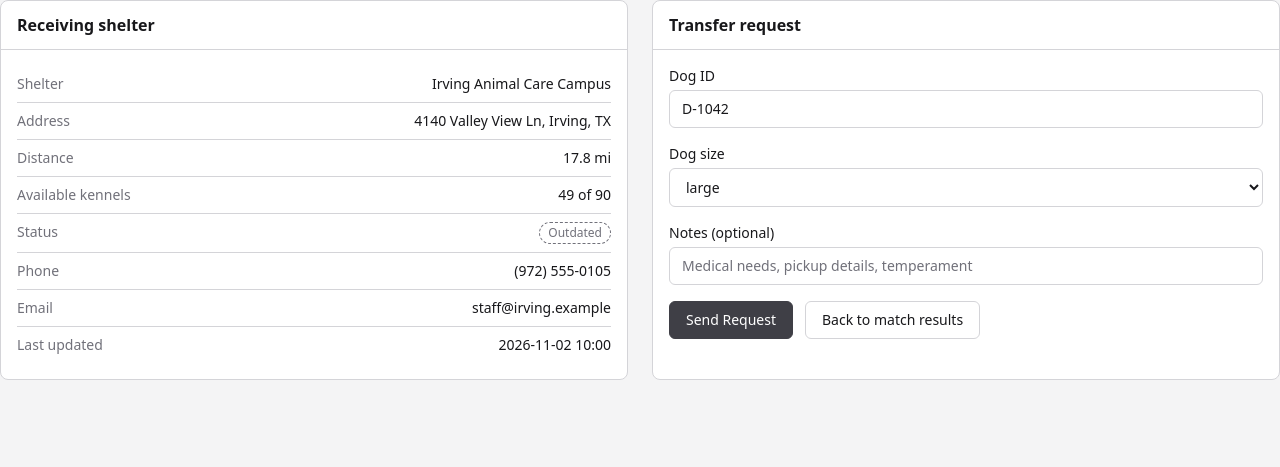
Scenario: UC-7 Request Dog Transfer (screen) › TC-7-06 (screen) a dog that already has an active transfer is refused with the message
The width and height of the screenshot is (1280, 467).
Click the button "Send Request": {"x": 731, "y": 320} [669,301,793,339]
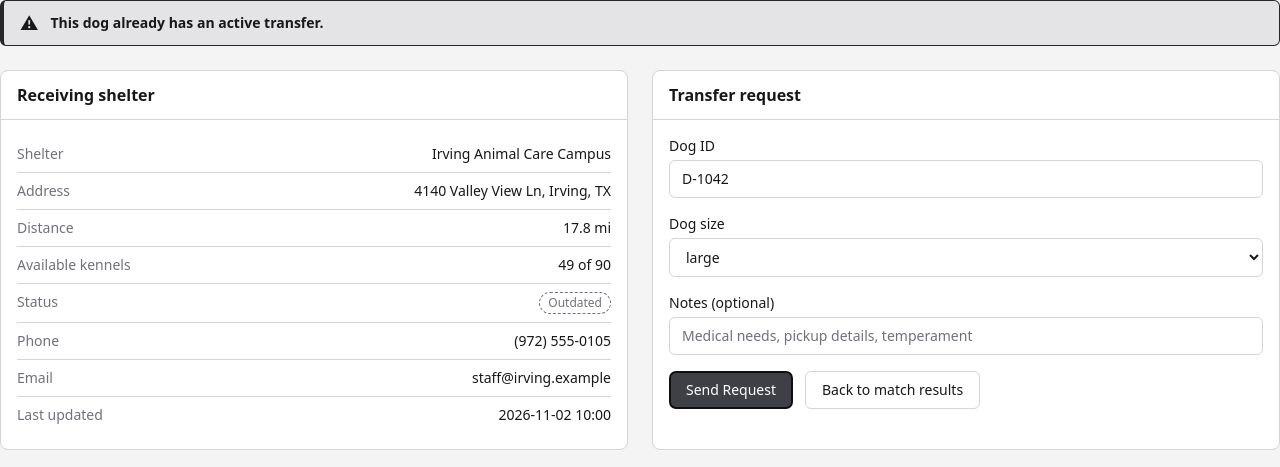
Now the text "This dog already has an active transfer." is shown, box [50,13,324,33]
